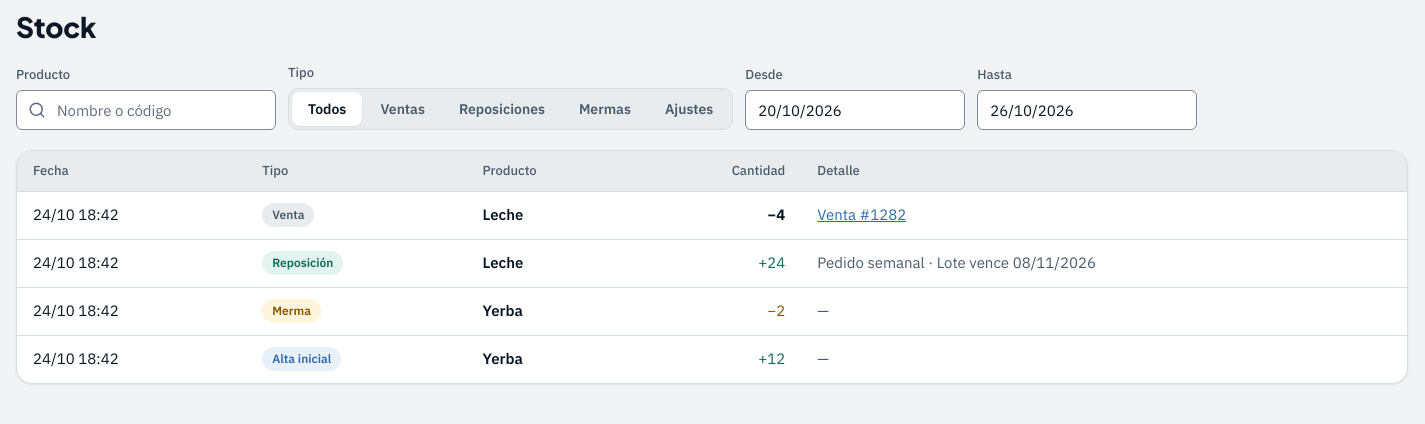
Test: StockMovements › un período con desde > hasta no recarga y avisa
The image size is (1425, 424).
Replace the text in the field labelled "Desde" with "01012099" at (855, 110), box [745,90,965,130]
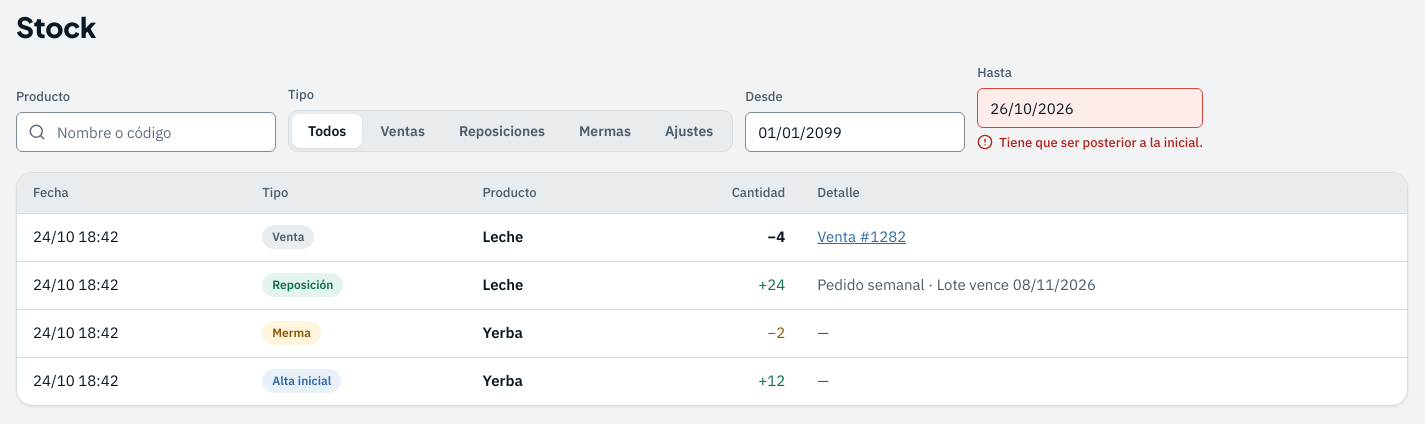
Check: the text "Tiene que ser posterior a la inicial." is shown, box [977,134,1203,152]
